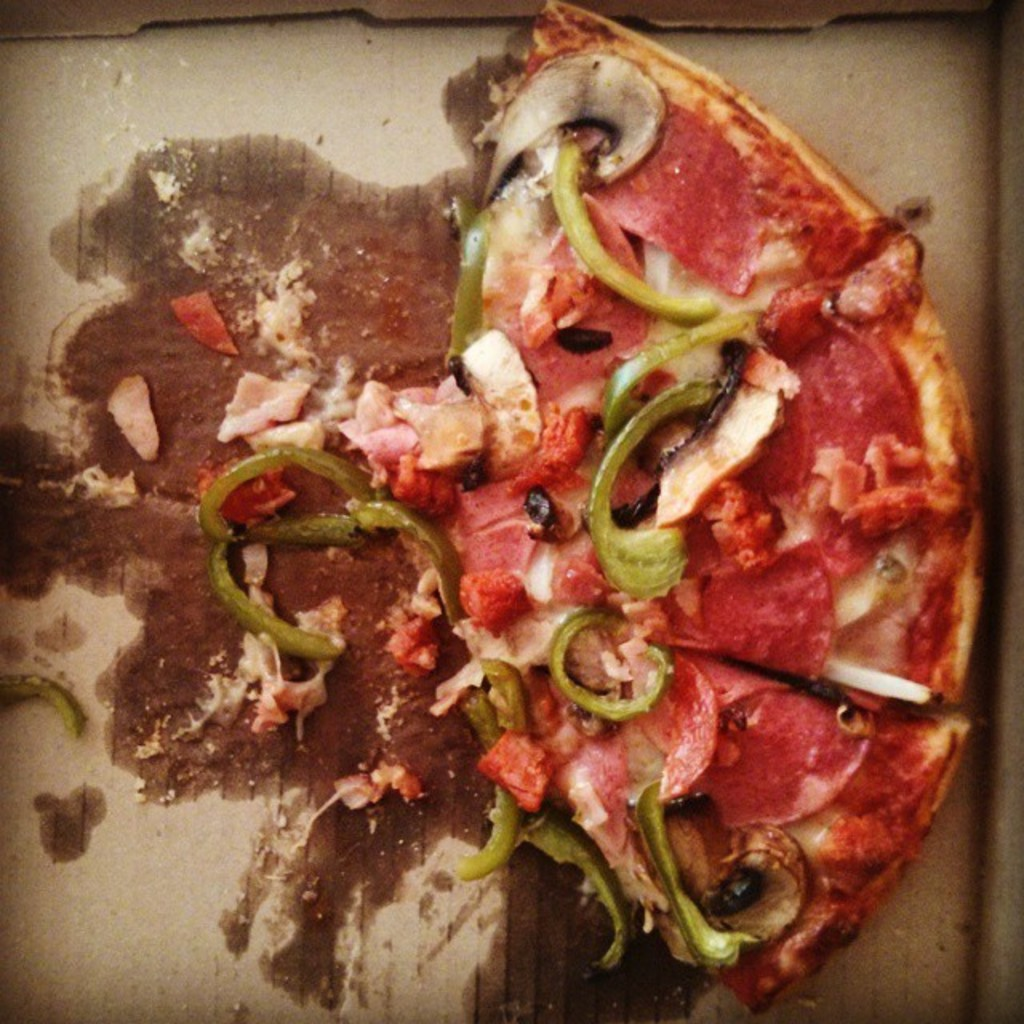Pizza: (81, 0, 1022, 988)
